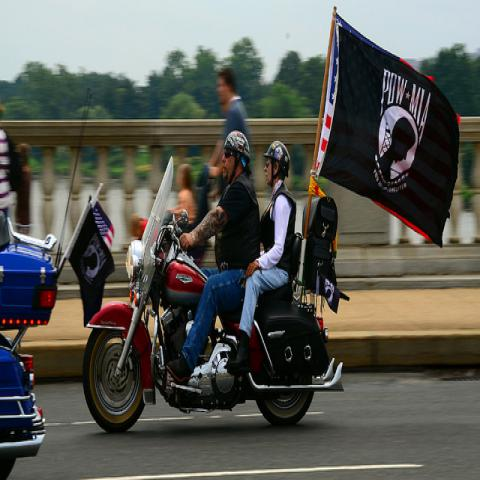motorcycle: (85, 149, 346, 430), (0, 211, 58, 474)
